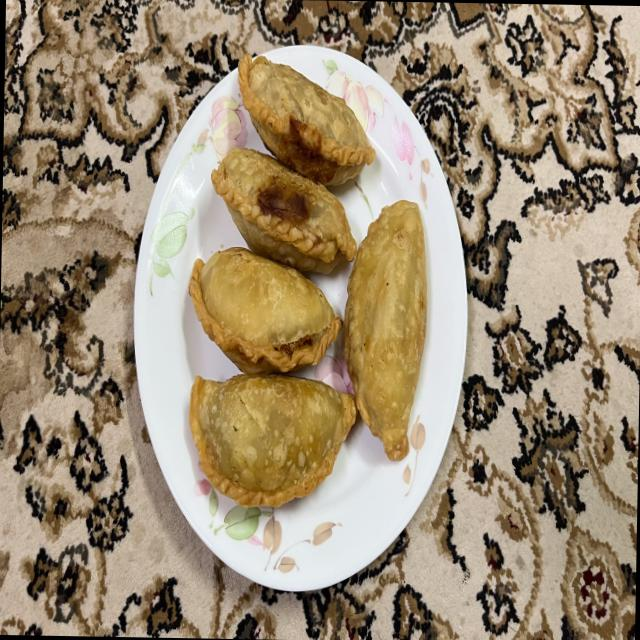karipap: (189, 374, 356, 508), (344, 199, 427, 459), (188, 247, 342, 373), (211, 148, 356, 273), (238, 54, 374, 185)
